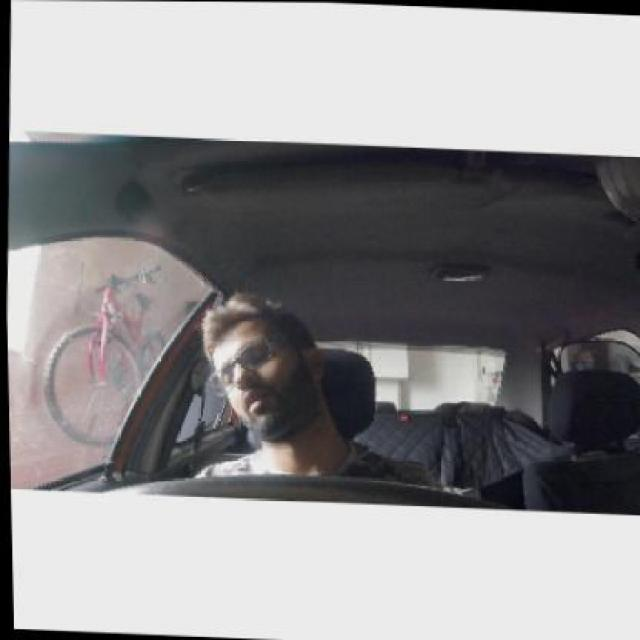drowsy: (190, 291, 334, 448)
